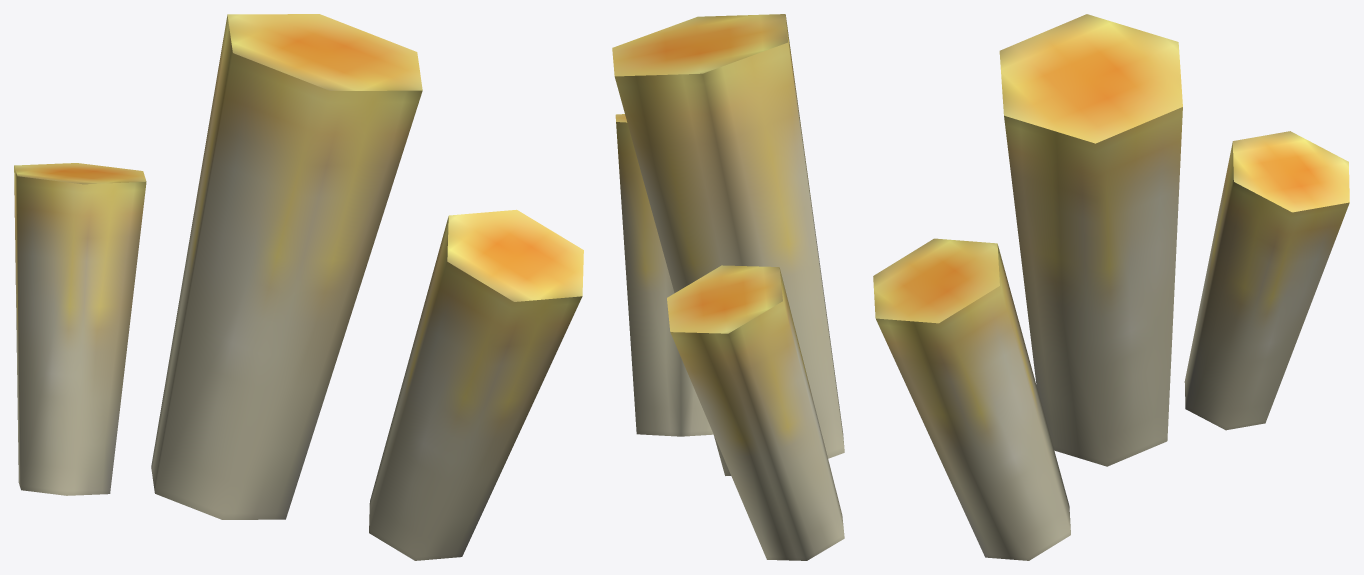
Rendered from Area06_28.fbx.
The picture shows the model from 3 angles, left to right: view 1: azimuth 30°, elevation 25°; view 2: azimuth 150°, elevation 25°; view 3: azimuth 270°, elevation 25°; orthographic projection. The views are drawn at different scales.
Visible parts, largest first — view 1: Area06_28; view 2: Area06_28; view 3: Area06_28.
Part boxes in pixels (bbox=[...]): Area06_28: bbox=[14, 14, 583, 560]; Area06_28: bbox=[612, 14, 844, 560]; Area06_28: bbox=[873, 14, 1349, 560].
Bounding box in the file's own units: 40.63 × 48.18 × 44.72.
